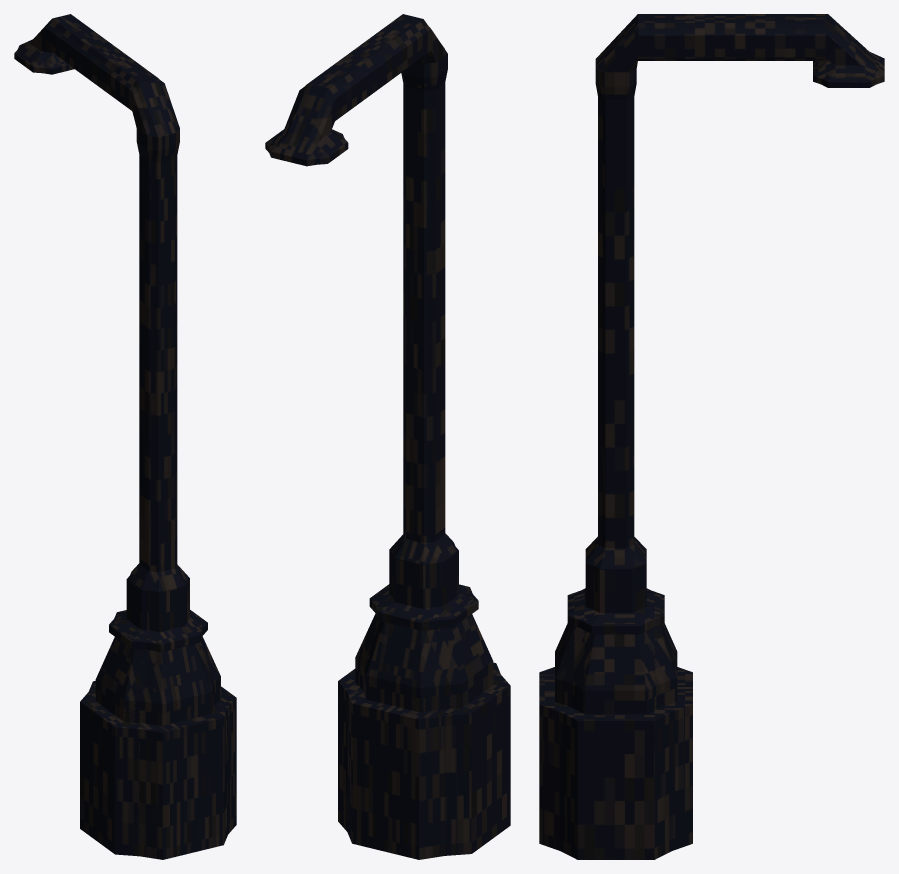
File: LampPost.fbx
3 renders of one model, left to right at view 1: azimuth 30°, elevation 25°; view 2: azimuth 150°, elevation 25°; view 3: azimuth 270°, elevation 25°, orthographic. The views are drawn at different scales.
Parts seen in each view (by area): view 1: Lamp; view 2: Lamp; view 3: Lamp.
Part boxes in pixels (x1,y1,x2,y2): Lamp: (14, 14, 236, 859); Lamp: (265, 14, 510, 859); Lamp: (539, 14, 884, 859).
Size of the model in its own units: 119 by 695 by 269.
